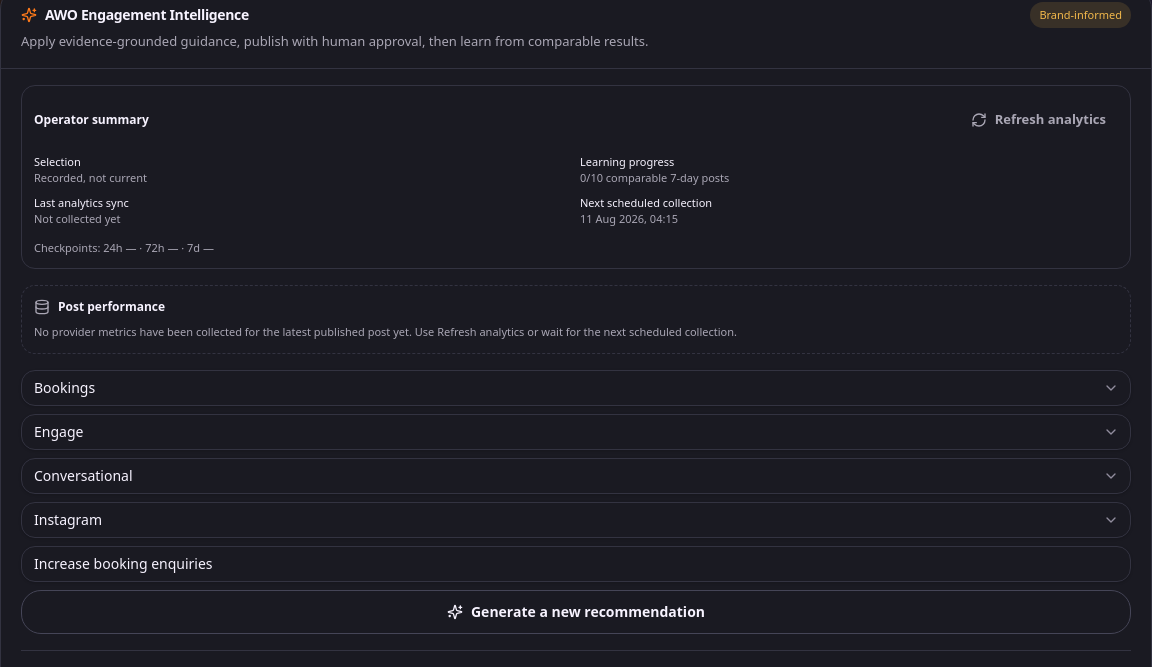
EngagementIntelligencePanel › invalidates the displayed recommendation when its platform or objective selection changes
Select "Facebook" in the dropdown named "Engagement platform": (576, 520) 21,502 -> 1131,538
(page scrolled)
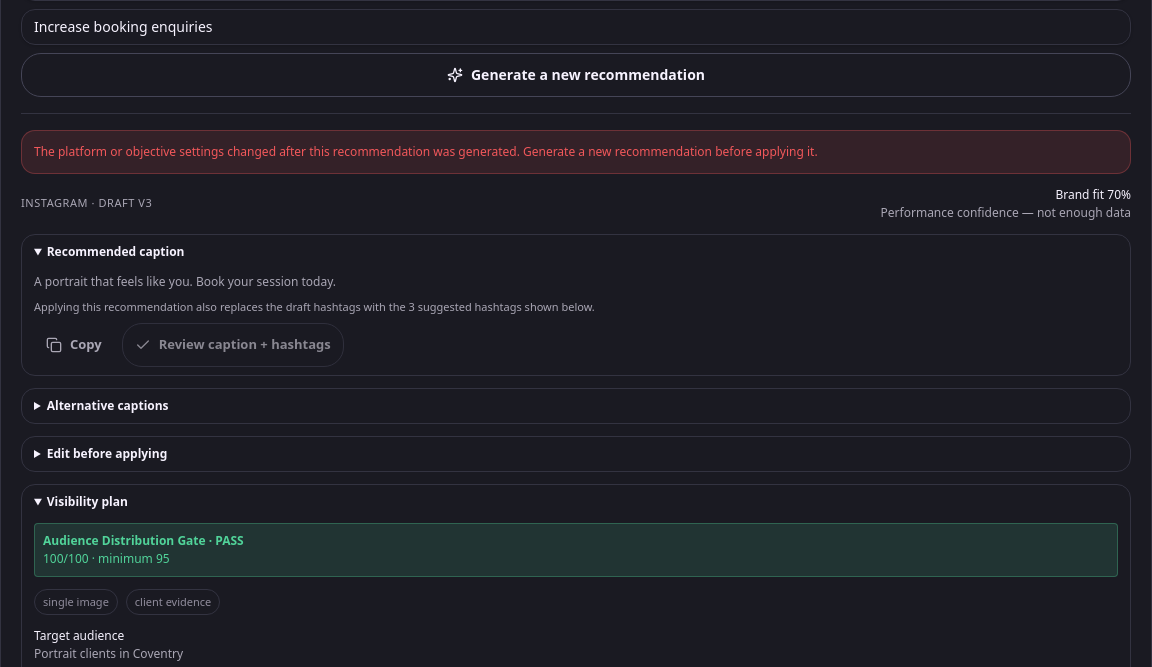
Expected: the text "settings changed after this recommendation was generated" is shown, 34,142 -> 818,160
Expected: the button "Review caption + hashtags" is disabled, 122,323 -> 344,367
